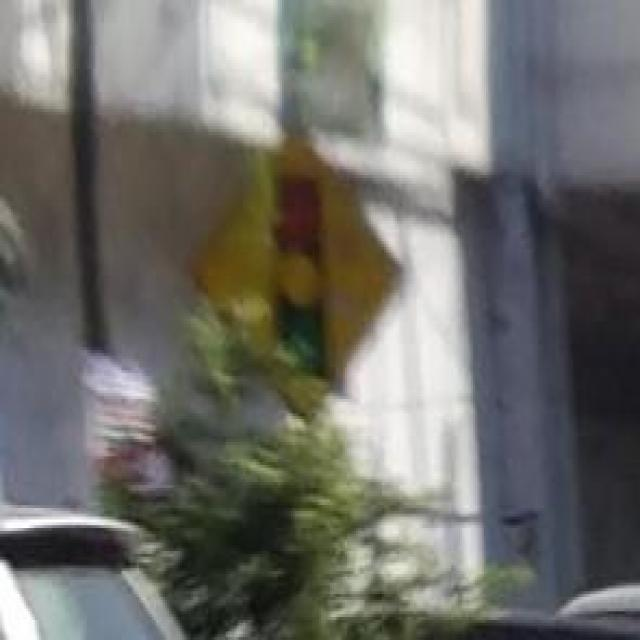traffic sign: (197, 141, 406, 405)
